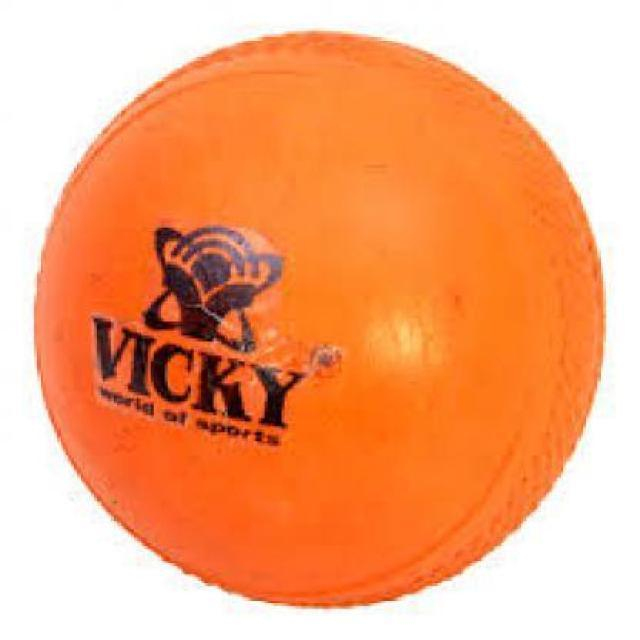-: (49, 76, 626, 607)
